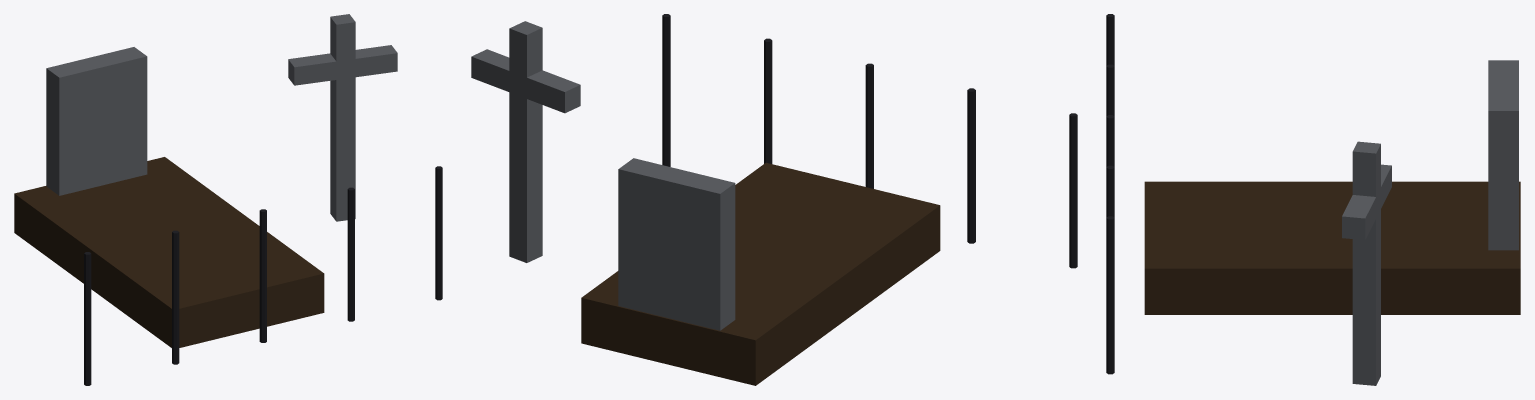
The model's file is graveyard_tomb.obj.
3 renders of one model, left to right at view 1: azimuth 30°, elevation 25°; view 2: azimuth 150°, elevation 25°; view 3: azimuth 270°, elevation 25°, orthographic. The views are drawn at different scales.
Parts seen in each view (by area): view 1: Cube, Cube.001, Cube.002, Cube.003, Cylinder.001, Cylinder.003, Cylinder.004, Cylinder, Cylinder.002; view 2: Cube, Cube.001, Cube.002, Cube.003, Cylinder, Cylinder.001, Cylinder.004, Cylinder.003, Cylinder.002; view 3: Cube, Cube.002, Cube.001, Cube.003, Cylinder.004, Cylinder.003, Cylinder, Cylinder.002, Cylinder.001.
Part boxes in pixels (x1,y1,x2,y2): Cube: (14, 157, 324, 347); Cube.001: (46, 47, 147, 195); Cube.002: (330, 14, 355, 221); Cube.003: (288, 45, 397, 85); Cylinder.001: (172, 230, 179, 364); Cylinder.003: (347, 187, 354, 321); Cylinder.004: (435, 166, 442, 300); Cylinder: (84, 252, 91, 385); Cylinder.002: (259, 209, 266, 342); Cube: (581, 162, 940, 385); Cube.001: (618, 158, 735, 330); Cube.002: (509, 21, 542, 262); Cube.003: (471, 49, 580, 113); Cylinder: (1069, 113, 1077, 268); Cylinder.001: (967, 88, 975, 243); Cylinder.004: (662, 14, 670, 166); Cylinder.003: (764, 38, 772, 163); Cylinder.002: (865, 63, 873, 188); Cube: (1144, 181, 1520, 314); Cube.002: (1352, 141, 1380, 385); Cube.001: (1488, 60, 1518, 250); Cube.003: (1342, 164, 1391, 239); Cylinder.004: (1106, 216, 1114, 374); Cylinder.003: (1106, 165, 1114, 217); Cylinder: (1106, 14, 1114, 65); Cylinder.002: (1106, 115, 1114, 166); Cylinder.001: (1106, 64, 1114, 116).
Bounding box in the file's own units: 3.3 × 1.5 × 2.43.
